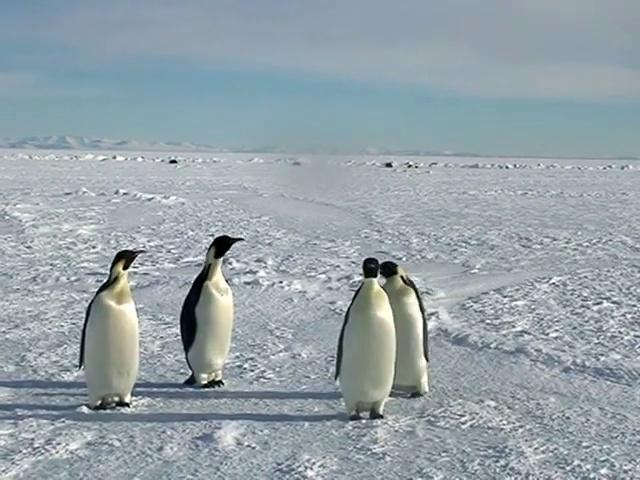animal: (336, 259, 396, 420)
